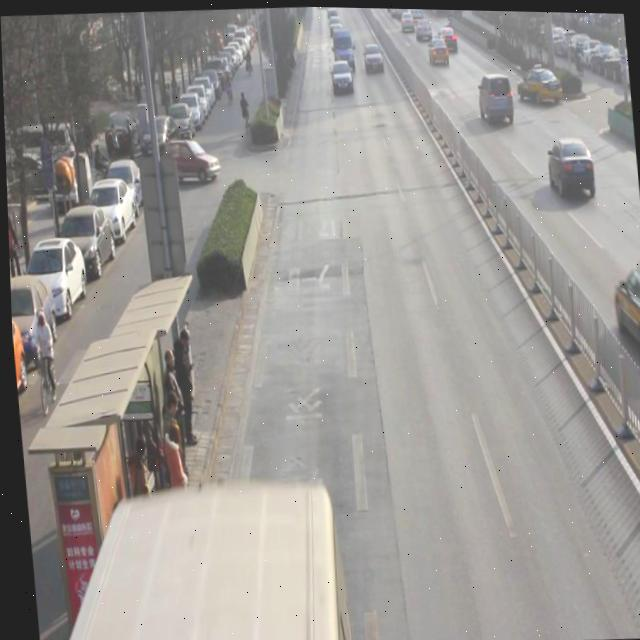bus: (330, 26, 357, 72)
car: (546, 135, 597, 201), (163, 133, 222, 186), (516, 59, 564, 106), (476, 71, 516, 127), (330, 58, 355, 96), (428, 32, 451, 68), (362, 41, 385, 76), (439, 25, 459, 53), (416, 14, 434, 43), (400, 7, 417, 31), (329, 13, 345, 36), (446, 8, 462, 22), (411, 7, 423, 19)
van: (26, 478, 344, 640)
